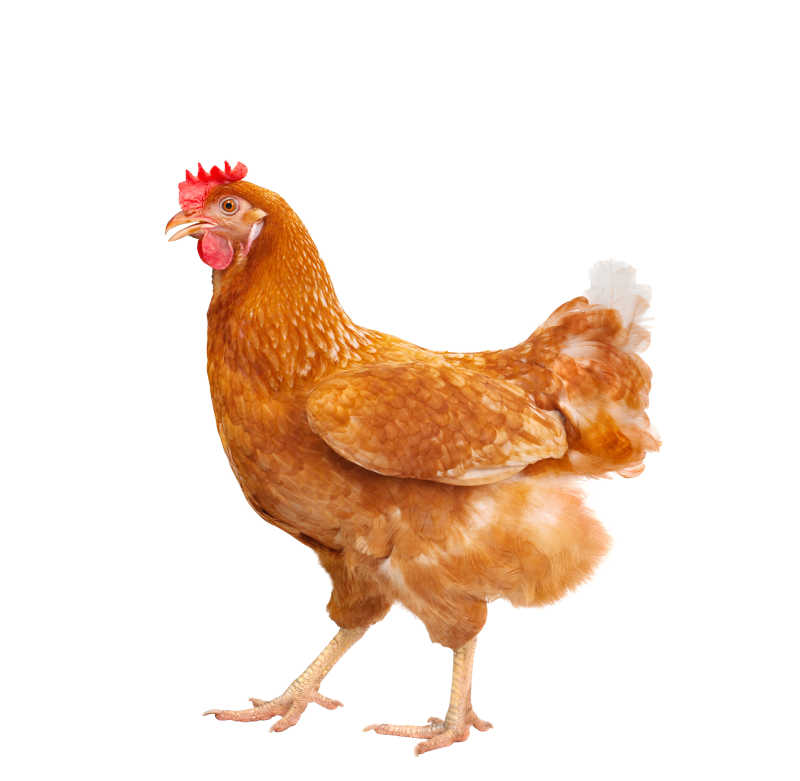chicken: (158, 154, 672, 762)
